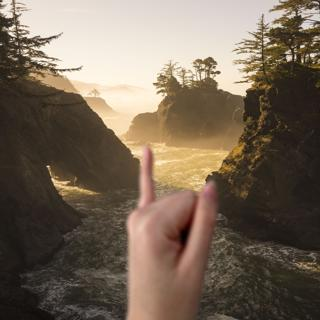Fine: (116, 141, 220, 317)
